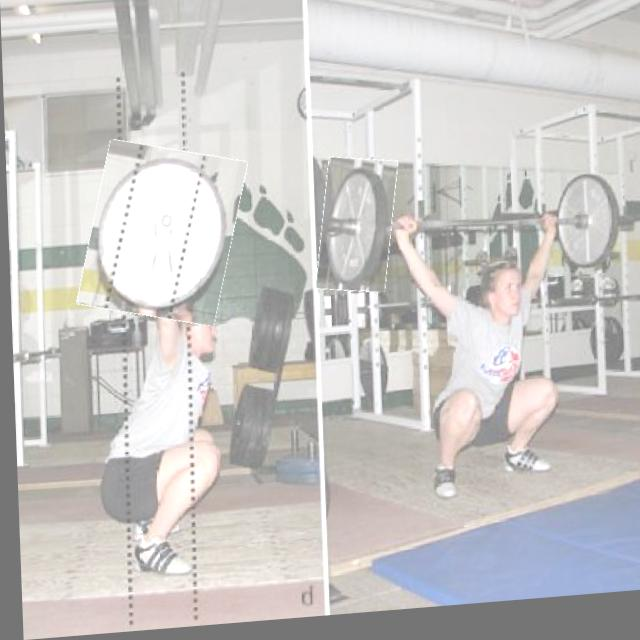barbell: (79, 142, 242, 332), (315, 161, 397, 301)
